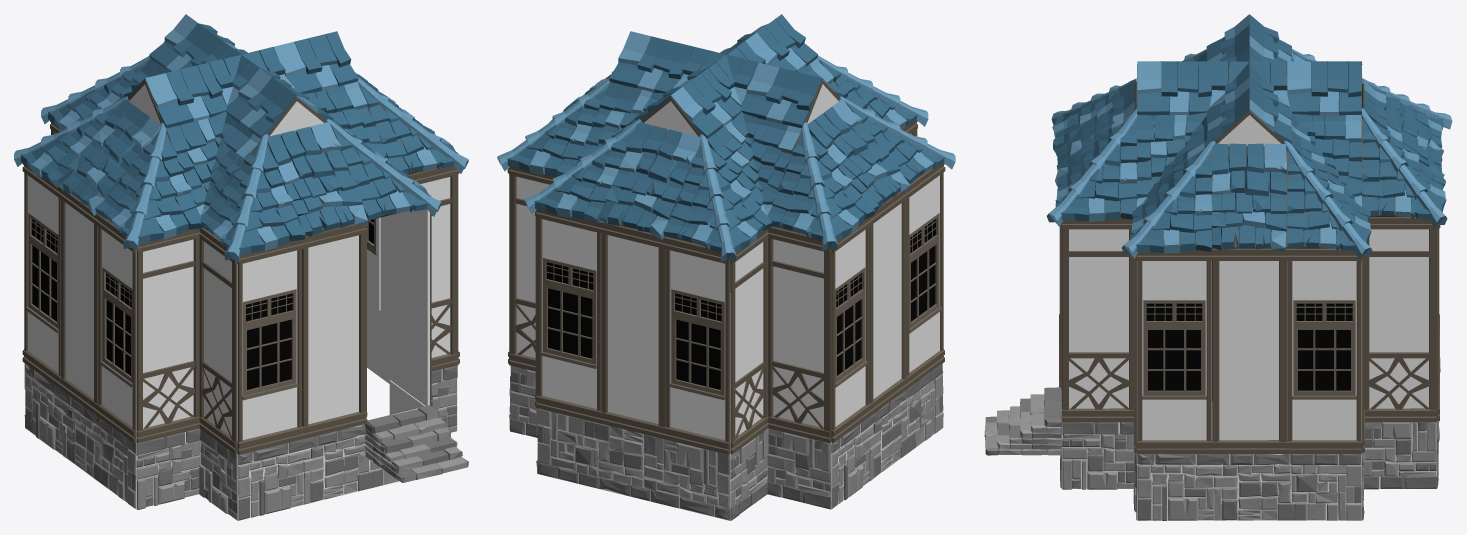
Rendered from House_03_parts.fbx.
3 renders of one model, left to right at view 1: azimuth 30°, elevation 25°; view 2: azimuth 150°, elevation 25°; view 3: azimuth 270°, elevation 25°, orthographic.
Parts seen in each view (by area): view 1: WALL_03_3, WINDOW_04_3, WALL_04_4, FOUNDATION_02_10, WINDOW_04_4, WALL_04_3, WALL_04_10, WALL_03_4, WINDOW_04_5, FOUNDATION_02_11, ROOF_base_3, ROOF_corner_out_3 (+24 smaller); view 2: WALL_03_5, WINDOW_04_6, WINDOW_04_7, WALL_04_5, FOUNDATION_02_12, WALL_03_4, WINDOW_04_5, WALL_04_6, WINDOW_04_4, FOUNDATION_02_11, ROOF_base_5, ROOF_corner_out_6 (+21 smaller); view 3: WALL_03_6, WINDOW_04_8, WINDOW_04_9, FOUNDATION_02_13, WALL_04_7, WALL_04_10, ROOF_base_4, ROOF_corner_out_5, ROOF_corner_out_4, ROOF_corner_out_2, ROOF_corner_out_7, FOUNDATION_03_17 (+19 smaller).
Part boxes in pixels (<box>): WALL_03_3: <box>302,223,367,438</box>; WINDOW_04_3: <box>237,240,303,454</box>; WALL_04_4: <box>136,228,200,443</box>; FOUNDATION_02_10: <box>237,408,417,520</box>; WINDOW_04_4: <box>96,214,136,442</box>; WALL_04_3: <box>199,228,237,454</box>; WALL_04_10: <box>390,209,432,406</box>; WALL_03_4: <box>59,187,98,415</box>; WINDOW_04_5: <box>22,163,61,388</box>; FOUNDATION_02_11: <box>25,364,136,509</box>; ROOF_base_3: <box>267,122,367,236</box>; ROOF_corner_out_3: <box>200,134,305,262</box>; WALL_03_5: <box>600,221,665,438</box>; WINDOW_04_6: <box>664,237,730,454</box>; WINDOW_04_7: <box>536,209,601,423</box>; WALL_04_5: <box>767,226,831,443</box>; FOUNDATION_02_12: <box>537,408,729,520</box>; WALL_03_4: <box>869,190,907,415</box>; WINDOW_04_5: <box>831,217,870,442</box>; WALL_04_6: <box>730,229,768,454</box>; WINDOW_04_4: <box>906,163,945,388</box>; FOUNDATION_02_11: <box>831,364,943,508</box>; ROOF_base_5: <box>599,122,700,239</box>; ROOF_corner_out_6: <box>663,134,772,262</box>; WALL_03_6: <box>1212,248,1286,453</box>; WINDOW_04_8: <box>1287,248,1361,453</box>; WINDOW_04_9: <box>1137,248,1211,453</box>; FOUNDATION_02_13: <box>1137,454,1361,520</box>; WALL_04_7: <box>1364,217,1436,422</box>; WALL_04_10: <box>1062,217,1134,422</box>; ROOF_base_4: <box>1211,143,1287,252</box>; ROOF_corner_out_5: <box>1121,140,1216,258</box>; ROOF_corner_out_4: <box>1283,140,1372,260</box>; ROOF_corner_out_2: <box>1046,108,1137,226</box>; ROOF_corner_out_7: <box>1361,108,1447,228</box>; FOUNDATION_03_17: <box>1062,422,1134,489</box>.
Size of the model in its own units: 541 by 559 by 624.
